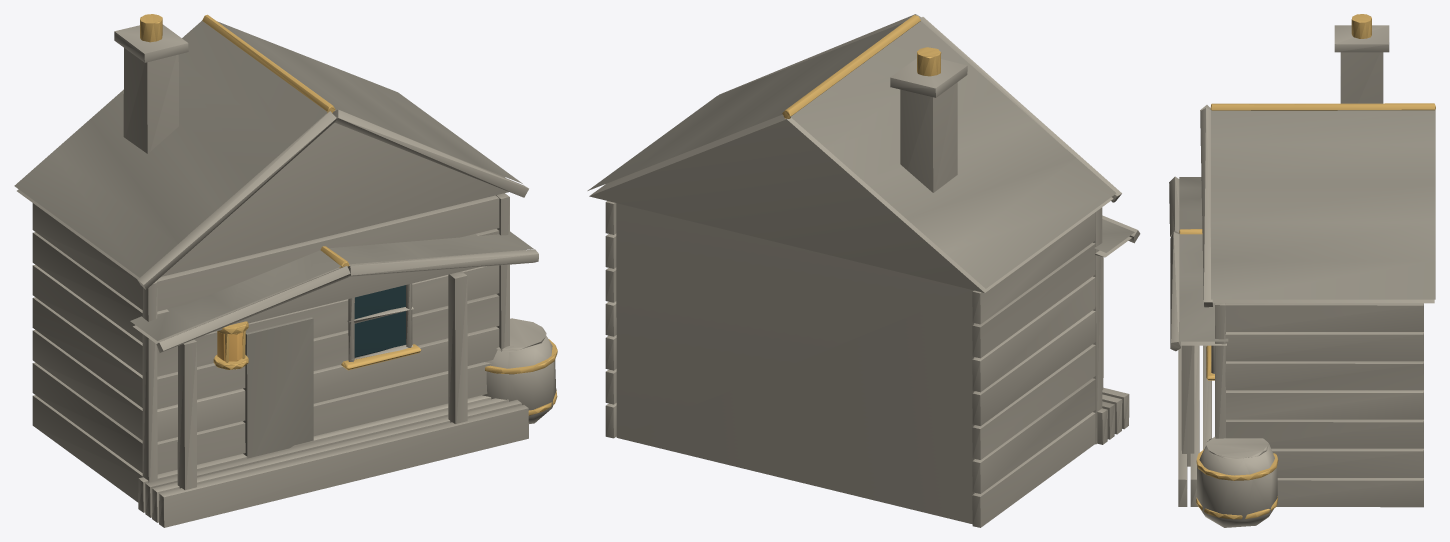
Rendered from pirate_homestead.glb.
3 renders of one model, left to right at view 1: azimuth 30°, elevation 25°; view 2: azimuth 150°, elevation 25°; view 3: azimuth 270°, elevation 25°, orthographic. The views are drawn at different scales.
Visible parts, largest first — view 1: WoodBody, BrassTrim, FixedDetails; view 2: WoodBody, BrassTrim; view 3: WoodBody, BrassTrim.
Boxes of the visible parts, x1,y1,x2,y2 form: WoodBody: [14, 20, 556, 527]; BrassTrim: [140, 14, 557, 415]; FixedDetails: [217, 285, 406, 361]; WoodBody: [587, 14, 1140, 527]; BrassTrim: [782, 15, 941, 118]; WoodBody: [1169, 25, 1435, 527]; BrassTrim: [1179, 14, 1435, 519].
Size of the model in its own units: 0.2492 by 0.23 by 0.1503.
